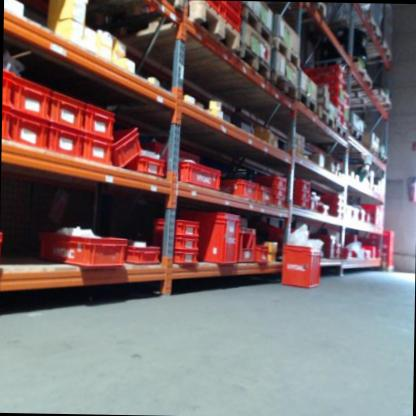pallet: (108, 0, 243, 74), (186, 40, 271, 86), (201, 68, 300, 107), (228, 3, 275, 45), (330, 142, 380, 167), (353, 82, 395, 111), (269, 34, 301, 69), (311, 102, 335, 131), (294, 90, 318, 117), (333, 124, 349, 144), (346, 127, 365, 143)
small_load_carrier: (175, 211, 243, 268), (38, 230, 126, 268), (277, 244, 323, 291), (110, 121, 145, 175), (166, 162, 222, 192), (14, 78, 51, 119), (49, 92, 86, 131), (16, 114, 48, 154), (44, 130, 83, 162), (149, 245, 201, 268), (82, 105, 115, 139), (221, 178, 261, 202), (81, 139, 112, 167), (152, 217, 199, 235), (240, 226, 260, 263), (126, 243, 159, 265), (132, 157, 165, 178), (3, 70, 19, 111), (149, 234, 198, 246), (189, 1, 224, 17), (257, 173, 287, 189), (2, 110, 14, 145), (257, 186, 269, 204), (293, 179, 311, 190), (292, 198, 308, 208), (270, 197, 284, 207), (258, 250, 268, 264), (271, 189, 287, 197), (292, 192, 311, 198)
